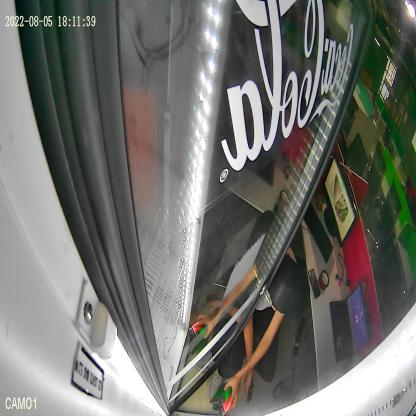green: (210, 383, 232, 407)
red: (212, 394, 235, 416)
